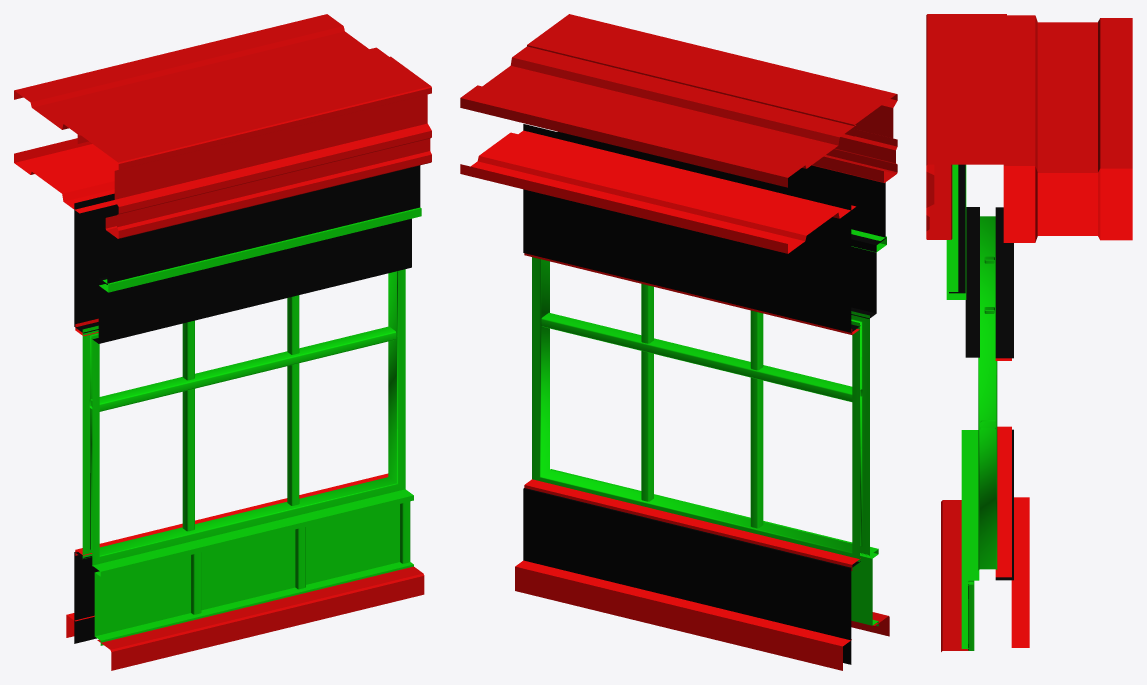
Rendered from SM_Shop_Window_T1.FBX.
The picture shows the model from 3 angles, left to right: view 1: azimuth 30°, elevation 25°; view 2: azimuth 150°, elevation 25°; view 3: azimuth 270°, elevation 25°; orthographic projection. The views are drawn at different scales.
Parts seen in each view (by area): view 1: SM_Shop_Window_T1; view 2: SM_Shop_Window_T1; view 3: SM_Shop_Window_T1.
Part boxes in pixels (x1,y1,x2,y2): SM_Shop_Window_T1: (14, 14, 431, 670); SM_Shop_Window_T1: (460, 14, 897, 670); SM_Shop_Window_T1: (926, 14, 1132, 651).
Bounding box in the file's own units: 300 × 174 × 470.
